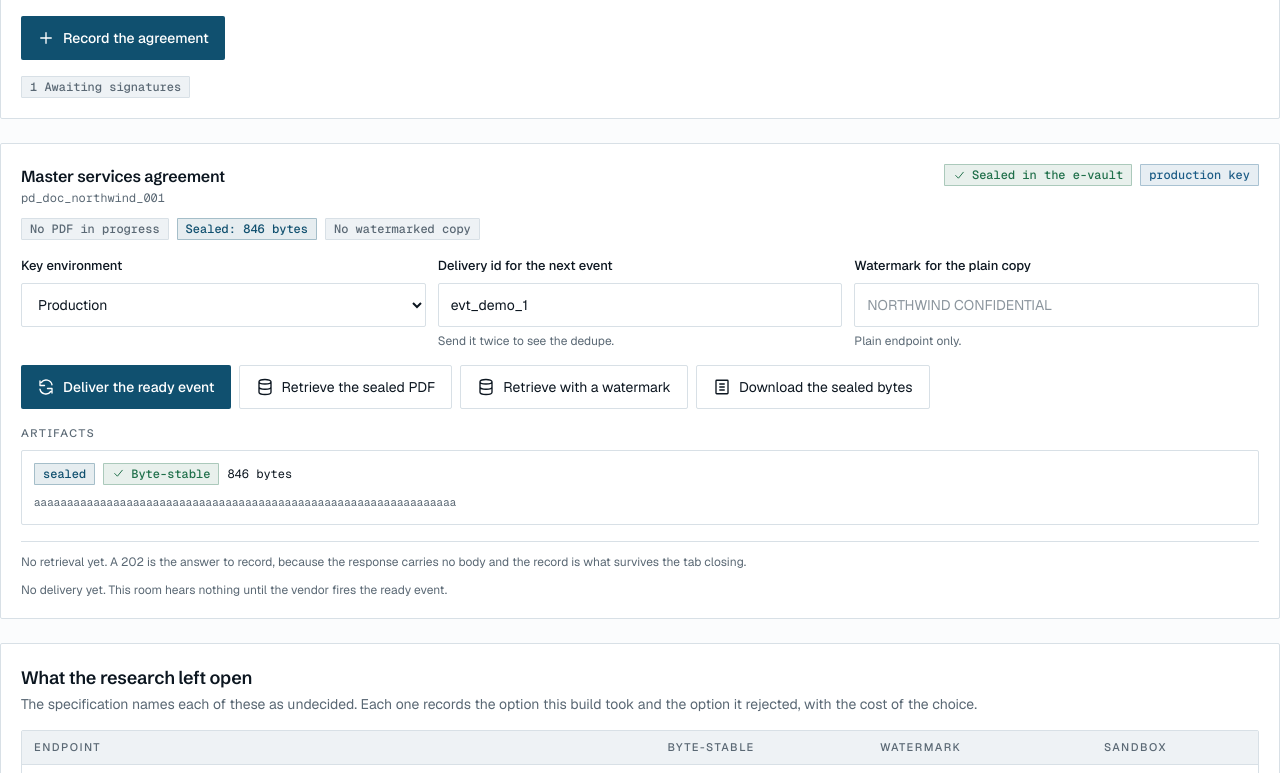
Test case: byte stability › reports the bytes and the digest the download actually returned
(page scrolled)
Click the button "Download the sealed bytes" at (813, 386), box [696, 364, 930, 408]
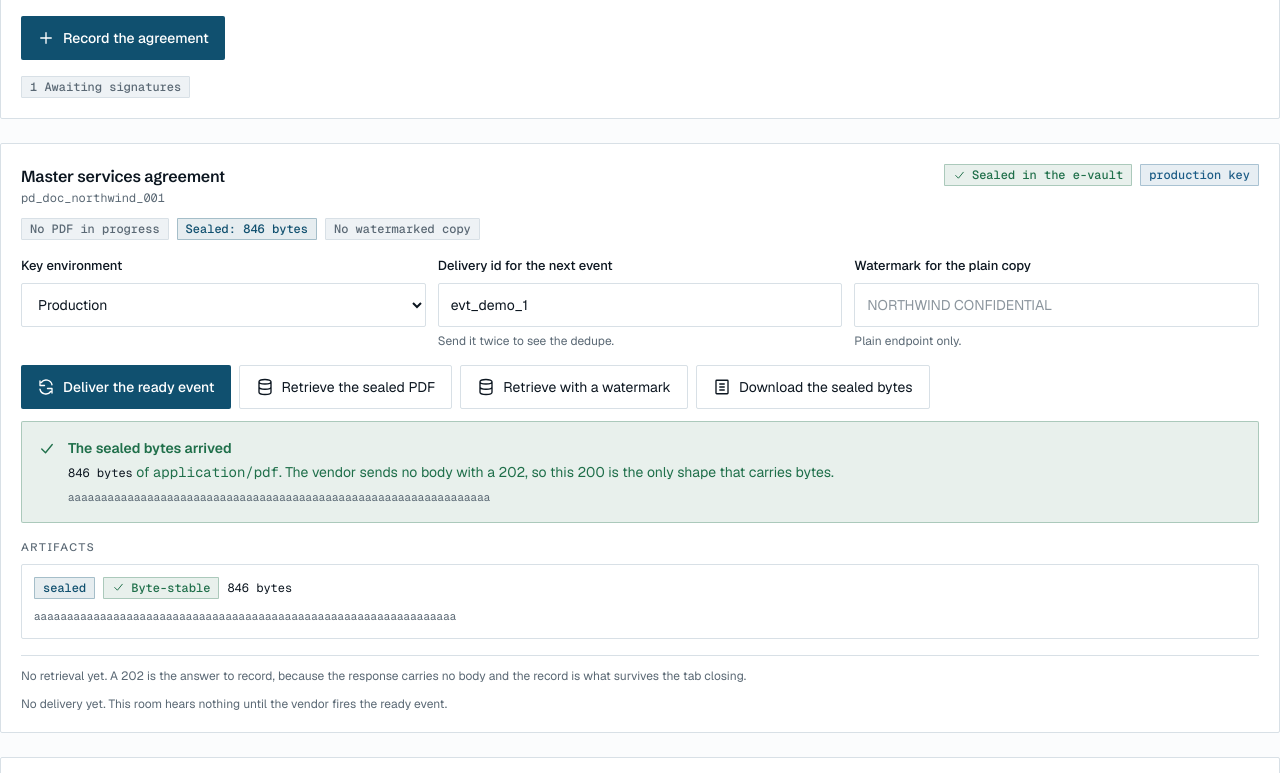
Result: the text "The sealed bytes arrived" is shown at [68, 438, 232, 456]
